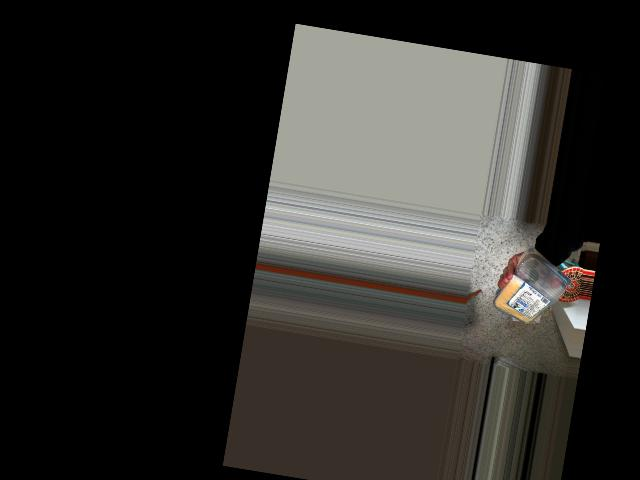cheese: (498, 252, 575, 336)
